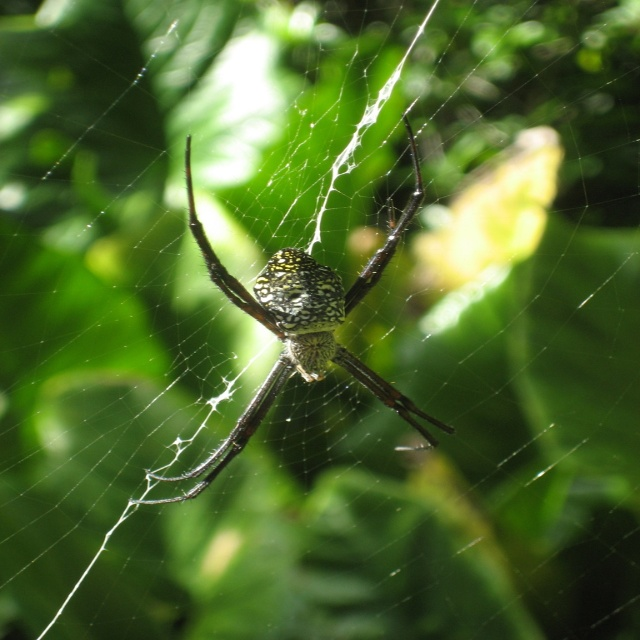Spider: (128, 112, 457, 505)
